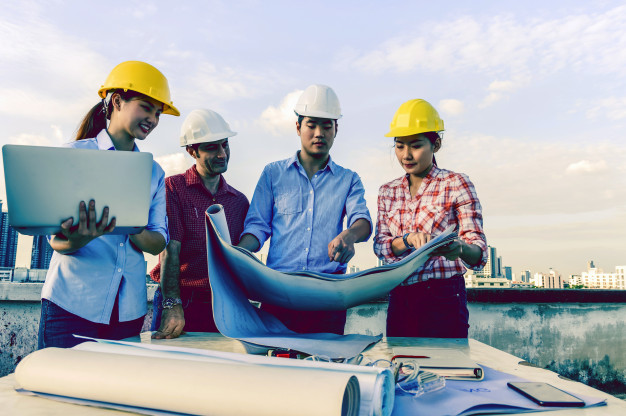casco: (97, 60, 181, 118), (382, 97, 445, 139), (178, 107, 239, 148), (291, 82, 343, 121)
